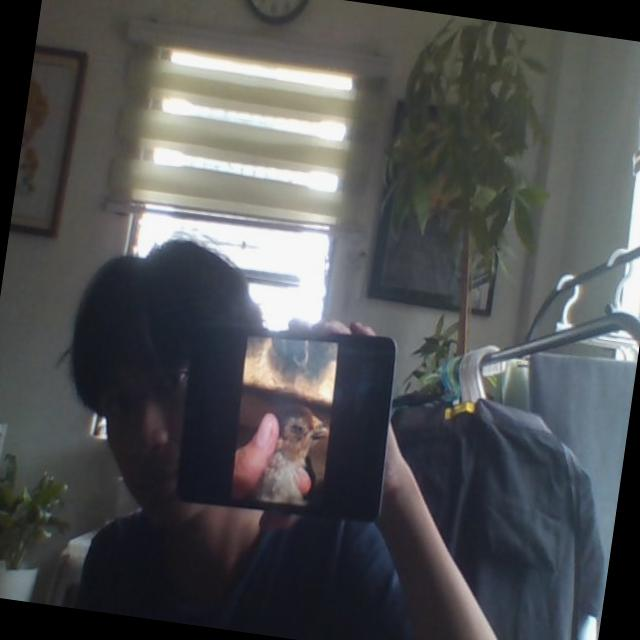Sick: (255, 399, 332, 512)
